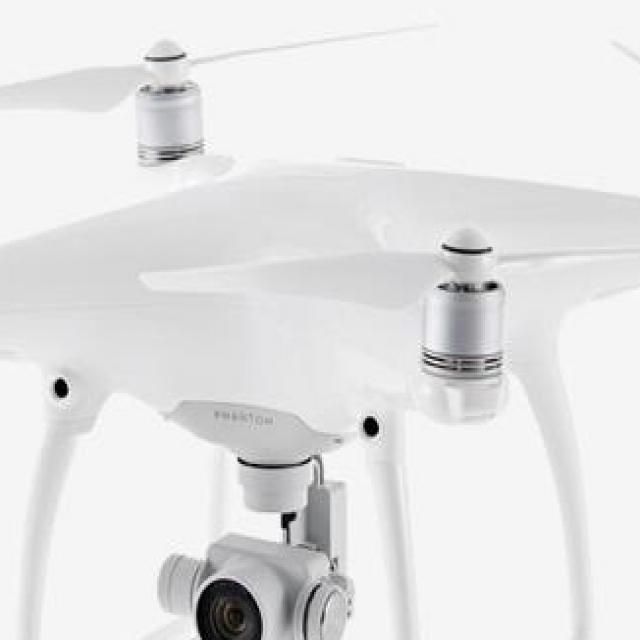drone: (0, 34, 640, 542)
